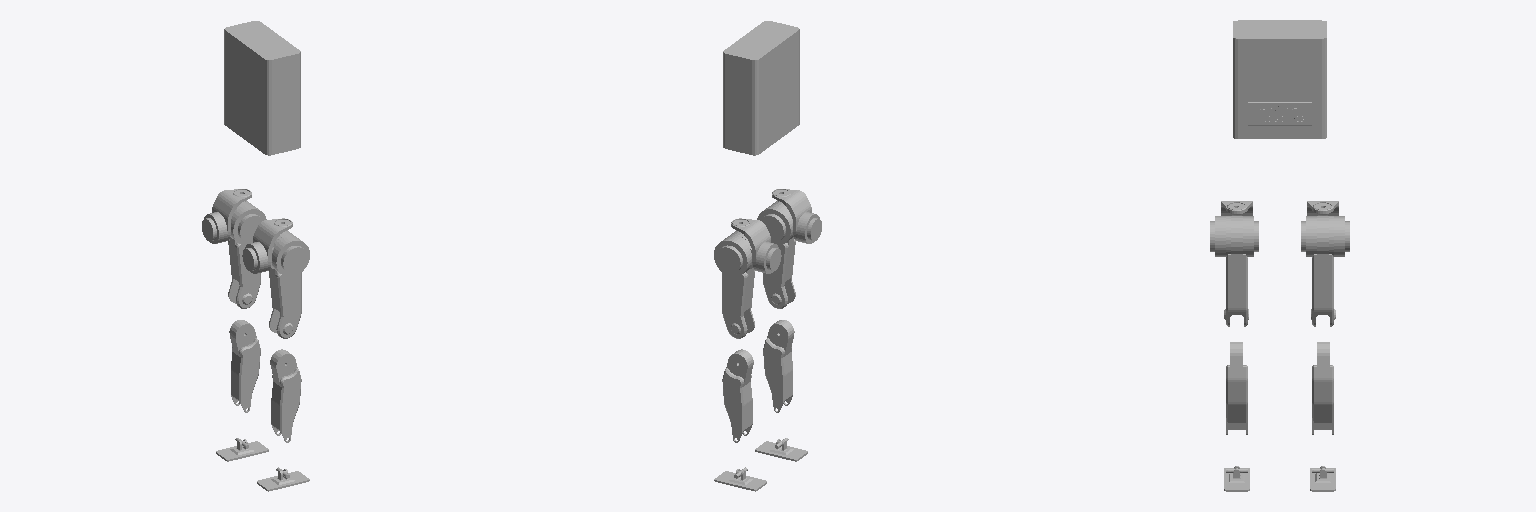
--- What the picture shows (computed from the rendered views, not written in the file) ---
Views: 3 orthographic renders of the robot side by side, from view 1: azimuth 30°, elevation 25°; view 2: azimuth 150°, elevation 25°; view 3: azimuth 270°, elevation 25°.
Robot: bot_elf — 32 links, 31 joints (20 revolute, 11 fixed); root link base_link; default pose: all joints at 0.
Links seen in each view (by area): view 1: base_link, l_hip_y_link, r_knee_y_link, l_knee_y_link, r_hip_y_link, r_hip_z_link, l_hip_z_link, r_hip_x_link, l_ankle_x_link, r_ankle_x_link; view 2: base_link, r_hip_y_link, l_knee_y_link, r_knee_y_link, l_hip_y_link, l_hip_z_link, r_hip_z_link, l_hip_x_link, r_ankle_x_link, l_ankle_x_link; view 3: base_link, l_hip_y_link, r_hip_y_link, l_knee_y_link, r_knee_y_link, l_hip_x_link, r_hip_x_link, r_ankle_x_link, l_ankle_x_link.
Boxes of the visible links, left/top/right/bottom form: base_link: left=224, top=21, right=300, bottom=155; l_hip_y_link: left=228, top=201, right=266, bottom=308; r_knee_y_link: left=270, top=349, right=301, bottom=442; l_knee_y_link: left=229, top=320, right=260, bottom=412; r_hip_y_link: left=269, top=230, right=301, bottom=338; r_hip_z_link: left=242, top=218, right=292, bottom=273; l_hip_z_link: left=202, top=189, right=251, bottom=243; r_hip_x_link: left=271, top=235, right=309, bottom=276; l_ankle_x_link: left=216, top=439, right=268, bottom=461; r_ankle_x_link: left=257, top=469, right=309, bottom=491; base_link: left=723, top=21, right=799, bottom=155; r_hip_y_link: left=757, top=201, right=795, bottom=308; l_knee_y_link: left=722, top=349, right=753, bottom=442; r_knee_y_link: left=763, top=320, right=794, bottom=412; l_hip_y_link: left=722, top=230, right=754, bottom=338; l_hip_z_link: left=731, top=218, right=781, bottom=273; r_hip_z_link: left=772, top=189, right=821, bottom=243; l_hip_x_link: left=714, top=235, right=752, bottom=276; r_ankle_x_link: left=755, top=439, right=807, bottom=461; l_ankle_x_link: left=714, top=469, right=766, bottom=491; base_link: left=1233, top=20, right=1326, bottom=138; l_hip_y_link: left=1301, top=216, right=1335, bottom=326; r_hip_y_link: left=1224, top=216, right=1258, bottom=326; l_knee_y_link: left=1312, top=342, right=1333, bottom=434; r_knee_y_link: left=1226, top=342, right=1247, bottom=434; l_hip_x_link: left=1329, top=216, right=1349, bottom=256; r_hip_x_link: left=1210, top=216, right=1230, bottom=256; r_ankle_x_link: left=1224, top=466, right=1249, bottom=491; l_ankle_x_link: left=1310, top=466, right=1335, bottom=491.
Bounding box of the posed robot: 0.1586 × 0.3262 × 1.16 m (x, y, z).
Meshes: 21 distinct files referenced, 13 mesh visuals loaded (13 binary STL); not drawn: 8 (reference not matched to a file when rendering).

The robot description file, URDF, robot "bot_elf":
<?xml version="1.0" encoding="utf-8"?>
<robot
  name="bot_elf">
  <link
    name="base_link">
    <inertial>
      <origin
        xyz="0.0047796 0.0024086 -0.0080626"
        rpy="0 0 0" />
      <mass
        value="8.1797" />
      <inertia
        ixx="0.048088"
        ixy="1.5174E-07"
        ixz="1.072E-05"
        iyy="0.025715"
        iyz="-1.8442E-06"
        izz="0.034109" />
    </inertial>
    <visual>
      <origin
        xyz="0 0 0"
        rpy="0 0 0" />
      <geometry>
        <mesh
          filename="package://description/model/urdf/bot_elf/meshes/base_link.STL" />
      </geometry>
      <material
        name="">
        <color
          rgba="0.75294 0.75294 0.75294 1" />
      </material>
    </visual>
    <collision>
      <origin
        xyz="0 0 0"
        rpy="0 0 0" />
      <geometry>
        <mesh
          filename="package://description/model/urdf/bot_elf/meshes/base_link.STL" />
      </geometry>
    </collision>
  </link>
  <link
    name="l_hip_z_link">
    <inertial>
      <origin
        xyz="-0.0926596088186881 1.83143900212845E-05 0.013335848664072"
        rpy="0 0 0" />
      <mass
        value="1.23681233828303" />
      <inertia
        ixx="0.00190369835860619"
        ixy="5.51860109314912E-07"
        ixz="-0.000295974194800576"
        iyy="0.00158455365942534"
        iyz="2.68654743796429E-06"
        izz="0.00116909292803411" />
    </inertial>
    <visual>
      <origin
        xyz="0 0 0"
        rpy="0 0 0" />
      <geometry>
        <mesh
          filename="package://description/model/urdf/bot_elf/meshes/l_hip_z_link.STL" />
      </geometry>
      <material
        name="">
        <color
          rgba="0.752941176470588 0.752941176470588 0.752941176470588 1" />
      </material>
    </visual>
    <collision>
      <origin
        xyz="0 0 0"
        rpy="0 0 0" />
      <geometry>
        <mesh
          filename="package://description/model/urdf/bot_elf/meshes/l_hip_z_link.STL" />
      </geometry>
    </collision>
  </link>
  <joint
    name="l_hip_z_joint"
    type="revolute">
    <origin
      xyz="0 0.1 -0.2929"
      rpy="0 0 0" />
    <parent
      link="base_link" />
    <child
      link="l_hip_z_link" />
    <axis
      xyz="0 0 1" />
    <limit
      lower="-0.785"
      upper="0.785"
      effort="20"
      velocity="20" />
  </joint>
  <link
    name="l_hip_x_link">
    <inertial>
      <origin
        xyz="-0.00338370329540797 -0.0467745110690707 5.150285588576E-06"
        rpy="0 0 0" />
      <mass
        value="1.52690683733997" />
      <inertia
        ixx="0.00145004913823758"
        ixy="4.10352624430737E-05"
        ixz="4.97801733338824E-08"
        iyy="0.00233457718239287"
        iyz="-1.50048456747228E-08"
        izz="0.00157352349598003" />
    </inertial>
    <visual>
      <origin
        xyz="0 0 0"
        rpy="0 0 0" />
      <geometry>
        <mesh
          filename="package://description/model/urdf/bot_elf/meshes/l_hip_x_link.STL" />
      </geometry>
      <material
        name="">
        <color
          rgba="0.752941176470588 0.752941176470588 0.752941176470588 1" />
      </material>
    </visual>
    <collision>
      <origin
        xyz="0 0 0"
        rpy="0 0 0" />
      <geometry>
        <mesh
          filename="package://description/model/urdf/bot_elf/meshes/l_hip_x_link.STL" />
      </geometry>
    </collision>
  </link>
  <joint
    name="l_hip_x_joint"
    type="revolute">
    <origin
      xyz="0 0 0"
      rpy="0 0 0" />
    <parent
      link="l_hip_z_link" />
    <child
      link="l_hip_x_link" />
    <axis
      xyz="1 0 0" />
    <limit
      lower="-0.523"
      upper="0.785"
      effort="40"
      velocity="20" />
  </joint>
  <link
    name="l_hip_y_link">
    <inertial>
      <origin
        xyz="0.00255762409650847 0.0236405387147591 -0.048808744713007"
        rpy="0 0 0" />
      <mass
        value="2.50086507860377" />
      <inertia
        ixx="0.0110437074735068"
        ixy="1.73008147567407E-06"
        ixz="0.000227328231594566"
        iyy="0.0125914973055777"
        iyz="-2.64879858826109E-05"
        izz="0.0023184281360165" />
    </inertial>
    <visual>
      <origin
        xyz="0 0 0"
        rpy="0 0 0" />
      <geometry>
        <mesh
          filename="package://description/model/urdf/bot_elf/meshes/l_hip_y_link.STL" />
      </geometry>
      <material
        name="">
        <color
          rgba="0.752941176470588 0.752941176470588 0.752941176470588 1" />
      </material>
    </visual>
    <collision>
      <origin
        xyz="0 0 0"
        rpy="0 0 0" />
      <geometry>
        <mesh
          filename="package://description/model/urdf/bot_elf/meshes/l_hip_y_link.STL" />
      </geometry>
    </collision>
  </link>
  <joint
    name="l_hip_y_joint"
    type="revolute">
    <origin
      xyz="0 0 0"
      rpy="0 0 0" />
    <parent
      link="l_hip_x_link" />
    <child
      link="l_hip_y_link" />
    <axis
      xyz="0 1 0" />
    <limit
      lower="-2"
      upper="0.5"
      effort="150"
      velocity="20" />
  </joint>
  <link
    name="l_knee_y_link">
    <inertial>
      <origin
        xyz="0.00615799985005955 0.000579611337631 -0.110706777787508"
        rpy="0 0 0" />
      <mass
        value="1.42611317447382" />
      <inertia
        ixx="0.00265261046145861"
        ixy="3.62716577648164E-06"
        ixz="-0.00014997989154327"
        iyy="0.00293783143268895"
        iyz="1.89587363258298E-05"
        izz="0.000614654317255875" />
    </inertial>
    <visual>
      <origin
        xyz="0 0 0"
        rpy="0 0 0" />
      <geometry>
        <mesh
          filename="package://description/model/urdf/bot_elf/meshes/l_knee_y_link.STL" />
      </geometry>
      <material
        name="">
        <color
          rgba="0.752941176470588 0.752941176470588 0.752941176470588 1" />
      </material>
    </visual>
    <collision>
      <origin
        xyz="0 0 0"
        rpy="0 0 0" />
      <geometry>
        <mesh
          filename="package://description/model/urdf/bot_elf/meshes/l_knee_y_link.STL" />
      </geometry>
    </collision>
  </link>
  <joint
    name="l_knee_y_joint"
    type="revolute">
    <origin
      xyz="0 0 -0.3"
      rpy="0 0 0" />
    <parent
      link="l_hip_y_link" />
    <child
      link="l_knee_y_link" />
    <axis
      xyz="0 1 0" />
    <limit
      lower="0"
      upper="2.2"
      effort="150"
      velocity="20" />
  </joint>
  <link
    name="l_ankle_y_link">
    <inertial>
      <origin
        xyz="-6.09814513086586E-12 5.83219791905343E-10 3.64153152077051E-14"
        rpy="0 0 0" />
      <mass
        value="0.0230716180694964" />
      <inertia
        ixx="2.87473990078246E-06"
        ixy="-5.92541251517592E-17"
        ixz="-6.2876746116499E-18"
        iyy="5.59461108357194E-07"
        iyz="5.67081566973957E-19"
        izz="2.6957694272781E-06" />
    </inertial>
    <visual>
      <origin
        xyz="0 0 0"
        rpy="0 0 0" />
      <geometry>
        <mesh
          filename="package://description/model/urdf/bot_elf/meshes/l_ankle_y_link.STL" />
      </geometry>
      <material
        name="">
        <color
          rgba="0.752941176470588 0.752941176470588 0.752941176470588 1" />
      </material>
    </visual>
    <collision>
      <origin
        xyz="0 0 0"
        rpy="0 0 0" />
      <geometry>
        <mesh
          filename="package://description/model/urdf/bot_elf/meshes/l_ankle_y_link.STL" />
      </geometry>
    </collision>
  </link>
  <joint
    name="l_ankle_y_joint"
    type="revolute">
    <origin
      xyz="0 0 -0.3"
      rpy="0 0 0" />
    <parent
      link="l_knee_y_link" />
    <child
      link="l_ankle_y_link" />
    <axis
      xyz="0 1 0" />
    <limit
      lower="-1.134"
      upper="0.872"
      effort="14"
      velocity="20" />
  </joint>
  <link
    name="l_ankle_x_link">
    <inertial>
      <origin
        xyz="-0.000451547351572134 1.90180791947991E-09 -0.0239480271401858"
        rpy="0 0 0" />
      <mass
        value="0.242076229237956" />
      <inertia
        ixx="0.000133478606835497"
        ixy="-1.35534858432808E-12"
        ixz="-4.72078298245015E-08"
        iyy="0.000565974636810553"
        iyz="-3.48826857670192E-12"
        izz="0.000693006055828246" />
    </inertial>
    <visual>
      <origin
        xyz="0 0 0"
        rpy="0 0 0" />
      <geometry>
        <mesh
          filename="package://description/model/urdf/bot_elf/meshes/l_ankle_x_link.STL" />
      </geometry>
      <material
        name="">
        <color
          rgba="0.752941176470588 0.752941176470588 0.752941176470588 1" />
      </material>
    </visual>
    <collision>
      <origin
        xyz="0 0 0"
        rpy="0 0 0" />
      <geometry>
        <mesh
          filename="package://description/model/urdf/bot_elf/meshes/l_ankle_x_link.STL" />
      </geometry>
    </collision>
  </link>
  <joint
    name="l_ankle_x_joint"
    type="revolute">
    <origin
      xyz="0 0 0"
      rpy="0 0 0" />
    <parent
      link="l_ankle_y_link" />
    <child
      link="l_ankle_x_link" />
    <axis
      xyz="1 0 0" />
    <limit
      lower="-0.349"
      upper="0.349"
      effort="14"
      velocity="20" />
  </joint>
  <link
    name="r_hip_z_link">
    <inertial>
      <origin
        xyz="-0.0926596100628432 -1.83149507901742E-05 0.0133358473859379"
        rpy="0 0 0" />
      <mass
        value="1.23681232467206" />
      <inertia
        ixx="0.00190369819431391"
        ixy="-5.51893727727547E-07"
        ixz="-0.000295974083738072"
        iyy="0.00158455355805139"
        iyz="-2.68652577448903E-06"
        izz="0.00116909298056176" />
    </inertial>
    <visual>
      <origin
        xyz="0 0 0"
        rpy="0 0 0" />
      <geometry>
        <mesh
          filename="package://description/model/urdf/bot_elf/meshes/r_hip_z_link.STL" />
      </geometry>
      <material
        name="">
        <color
          rgba="0.752941176470588 0.752941176470588 0.752941176470588 1" />
      </material>
    </visual>
    <collision>
      <origin
        xyz="0 0 0"
        rpy="0 0 0" />
      <geometry>
        <mesh
          filename="package://description/model/urdf/bot_elf/meshes/r_hip_z_link.STL" />
      </geometry>
    </collision>
  </link>
  <joint
    name="r_hip_z_joint"
    type="revolute">
    <origin
      xyz="0 -0.1 -0.2929"
      rpy="0 0 0" />
    <parent
      link="base_link" />
    <child
      link="r_hip_z_link" />
    <axis
      xyz="0 0 1" />
    <limit
      lower="-0.785"
      upper="0.785"
      effort="20"
      velocity="20" />
  </joint>
  <link
    name="r_hip_x_link">
    <inertial>
      <origin
        xyz="-0.00338370329319122 0.0467745110719649 -5.15028594272327E-06"
        rpy="0 0 0" />
      <mass
        value="1.52690683726889" />
      <inertia
        ixx="0.00145004913816721"
        ixy="-4.1035262366074E-05"
        ixz="-4.97801918977252E-08"
        iyy="0.00233457718230779"
        iyz="-1.50048535538651E-08"
        izz="0.00157352349584134" />
    </inertial>
    <visual>
      <origin
        xyz="0 0 0"
        rpy="0 0 0" />
      <geometry>
        <mesh
          filename="package://description/model/urdf/bot_elf/meshes/r_hip_x_link.STL" />
      </geometry>
      <material
        name="">
        <color
          rgba="0.752941176470588 0.752941176470588 0.752941176470588 1" />
      </material>
    </visual>
    <collision>
      <origin
        xyz="0 0 0"
        rpy="0 0 0" />
      <geometry>
        <mesh
          filename="package://description/model/urdf/bot_elf/meshes/r_hip_x_link.STL" />
      </geometry>
    </collision>
  </link>
  <joint
    name="r_hip_x_joint"
    type="revolute">
    <origin
      xyz="0 0 0"
      rpy="0 0 0" />
    <parent
      link="r_hip_z_link" />
    <child
      link="r_hip_x_link" />
    <axis
      xyz="1 0 0" />
    <limit
      lower="-0.785"
      upper="0.523"
      effort="40"
      velocity="20" />
  </joint>
  <link
    name="r_hip_y_link">
    <inertial>
      <origin
        xyz="0.00255763066098993 -0.0236405391952909 -0.0488087769927071"
        rpy="0 0 0" />
      <mass
        value="2.50086518492187" />
      <inertia
        ixx="0.0110437209512944"
        ixy="-1.72998158531581E-06"
        ixz="0.000227332007725612"
        iyy="0.012591510850742"
        iyz="2.64884628868717E-05"
        izz="0.00231842880087343" />
    </inertial>
    <visual>
      <origin
        xyz="0 0 0"
        rpy="0 0 0" />
      <geometry>
        <mesh
          filename="package://description/model/urdf/bot_elf/meshes/r_hip_y_link.STL" />
      </geometry>
      <material
        name="">
        <color
          rgba="0.752941176470588 0.752941176470588 0.752941176470588 1" />
      </material>
    </visual>
    <collision>
      <origin
        xyz="0 0 0"
        rpy="0 0 0" />
      <geometry>
        <mesh
          filename="package://description/model/urdf/bot_elf/meshes/r_hip_y_link.STL" />
      </geometry>
    </collision>
  </link>
  <joint
    name="r_hip_y_joint"
    type="revolute">
    <origin
      xyz="0 0 0"
      rpy="0 0 0" />
    <parent
      link="r_hip_x_link" />
    <child
      link="r_hip_y_link" />
    <axis
      xyz="0 1 0" />
    <limit
      lower="-2"
      upper="0.5"
      effort="150"
      velocity="20" />
  </joint>
  <link
    name="r_knee_y_link">
    <inertial>
      <origin
        xyz="0.00617132335541426 -0.000560807743664765 -0.11065165092477"
        rpy="0 0 0" />
      <mass
        value="1.42506790131187" />
      <inertia
        ixx="0.00264676043875699"
        ixy="-3.64420143143032E-06"
        ixz="-0.000149674709580511"
        iyy="0.00293197556843643"
        iyz="-1.92776513579778E-05"
        izz="0.000614607093781911" />
    </inertial>
    <visual>
      <origin
        xyz="0 0 0"
        rpy="0 0 0" />
      <geometry>
        <mesh
          filename="package://description/model/urdf/bot_elf/meshes/r_knee_y_link.STL" />
      </geometry>
      <material
        name="">
        <color
          rgba="0.752941176470588 0.752941176470588 0.752941176470588 1" />
      </material>
    </visual>
    <collision>
      <origin
        xyz="0 0 0"
        rpy="0 0 0" />
      <geometry>
        <mesh
          filename="package://description/model/urdf/bot_elf/meshes/r_knee_y_link.STL" />
      </geometry>
    </collision>
  </link>
  <joint
    name="r_knee_y_joint"
    type="revolute">
    <origin
      xyz="0 0 -0.3"
      rpy="0 0 0" />
    <parent
      link="r_hip_y_link" />
    <child
      link="r_knee_y_link" />
    <axis
      xyz="0 1 0" />
    <limit
      lower="0"
      upper="2.2"
      effort="150"
      velocity="20" />
  </joint>
  <link
    name="r_ankle_y_link">
    <inertial>
      <origin
        xyz="-1.21872957033124E-11 -5.83219417205072E-10 5.00266494896096E-13"
        rpy="0 0 0" />
      <mass
        value="0.0230716180694967" />
      <inertia
        ixx="2.8747399010197E-06"
        ixy="-6.04370024399216E-17"
        ixz="-8.30234156722694E-18"
        iyy="5.59461108474785E-07"
        iyz="-1.29308673475988E-18"
        izz="2.69576942739776E-06" />
    </inertial>
    <visual>
      <origin
        xyz="0 0 0"
        rpy="0 0 0" />
      <geometry>
        <mesh
          filename="package://description/model/urdf/bot_elf/meshes/r_ankle_y_link.STL" />
      </geometry>
      <material
        name="">
        <color
          rgba="0.752941176470588 0.752941176470588 0.752941176470588 1" />
      </material>
    </visual>
    <collision>
      <origin
        xyz="0 0 0"
        rpy="0 0 0" />
      <geometry>
        <mesh
          filename="package://description/model/urdf/bot_elf/meshes/r_ankle_y_link.STL" />
      </geometry>
    </collision>
  </link>
  <joint
    name="r_ankle_y_joint"
    type="revolute">
    <origin
      xyz="0 0 -0.3"
      rpy="0 0 0" />
    <parent
      link="r_knee_y_link" />
    <child
      link="r_ankle_y_link" />
    <axis
      xyz="0 1 0" />
    <limit
      lower="-1.134"
      upper="0.872"
      effort="14"
      velocity="20" />
  </joint>
  <link
    name="r_ankle_x_link">
    <inertial>
      <origin
        xyz="-0.000451549280729961 -1.79609392636504E-09 -0.0239480246768528"
        rpy="0 0 0" />
      <mass
        value="0.24207626222516" />
      <inertia
        ixx="0.000133478605085963"
        ixy="1.32257502304071E-12"
        ixz="-4.72071011237789E-08"
        iyy="0.000565974633400782"
        iyz="3.25954307181434E-12"
        izz="0.000693006056524855" />
    </inertial>
    <visual>
      <origin
        xyz="0 0 0"
        rpy="0 0 0" />
      <geometry>
        <mesh
          filename="package://description/model/urdf/bot_elf/meshes/r_ankle_x_link.STL" />
      </geometry>
      <material
        name="">
        <color
          rgba="0.752941176470588 0.752941176470588 0.752941176470588 1" />
      </material>
    </visual>
    <collision>
      <origin
        xyz="0 0 0"
        rpy="0 0 0" />
      <geometry>
        <mesh
          filename="package://description/model/urdf/bot_elf/meshes/r_ankle_x_link.STL" />
      </geometry>
    </collision>
  </link>
  <joint
    name="r_ankle_x_joint"
    type="revolute">
    <origin
      xyz="0 0 0"
      rpy="0 0 0" />
    <parent
      link="r_ankle_y_link" />
    <child
      link="r_ankle_x_link" />
    <axis
      xyz="1 0 0" />
    <limit
      lower="-0.349"
      upper="0.349"
      effort="14"
      velocity="20" />
  </joint>
  <link
    name="l_shld_y_link">
    <inertial>
      <origin
        xyz="-0.000602020278894832 -0.00203253807550383 5.25078036642812E-05"
        rpy="0 0 0" />
      <mass
        value="0.397430898254414" />
      <inertia
        ixx="0.000197533082877176"
        ixy="-2.13914774743445E-06"
        ixz="4.75269653041195E-07"
        iyy="0.000172304821546368"
        iyz="1.06293202473427E-06"
        izz="0.000193880730475137" />
    </inertial>
    <visual>
      <origin
        xyz="0 0 0"
        rpy="0 0 0" />
      <geometry>
        <mesh
          filename="package://description/model/urdf/bot_elf/meshes/l_shld_y_link.STL" />
      </geometry>
      <material
        name="">
        <color
          rgba="0.752941176470588 0.752941176470588 0.752941176470588 1" />
      </material>
    </visual>
    <collision>
      <origin
        xyz="0 0 0"
        rpy="0 0 0" />
      <geometry>
        <mesh
          filename="package://description/model/urdf/bot_elf/meshes/l_shld_y_link.STL" />
      </geometry>
    </collision>
  </link>
  <joint
    name="l_shld_y_joint"
    type="revolute">
    <origin
      xyz="0 0.213 0.1521"
      rpy="0 0 0" />
    <parent
      link="base_link" />
    <child
      link="l_shld_y_link" />
    <axis
      xyz="0 1 0" />
    <limit
      lower="-2"
      upper="2"
      effort="27"
      velocity="20" />
  </joint>
  <link
    name="l_shld_x_link">
    <inertial>
      <origin
        xyz="3.49942010425215E-05 5.81165736925626E-05 -0.068328160023371"
        rpy="0 0 0" />
      <mass
        value="0.621968051279973" />
      <inertia
        ixx="0.000522407314474642"
        ixy="1.0633092850603E-06"
        ixz="4.82966301174553E-06"
        iyy="0.000684523465472649"
        iyz="-8.21814917464773E-07"
        izz="0.000533096664005443" />
    </inertial>
    <visual>
      <origin
        xyz="0 0 0"
        rpy="0 0 0" />
      <geometry>
        <mesh
          filename="package://description/model/urdf/bot_elf/meshes/l_shld_x_link.STL" />
      </geometry>
      <material
        name="">
        <color
          rgba="0.752941176470588 0.752941176470588 0.752941176470588 1" />
      </material>
    </visual>
    <collision>
      <origin
        xyz="0 0 0"
        rpy="0 0 0" />
      <geometry>
        <mesh
          filename="package://description/model/urdf/bot_elf/meshes/l_shld_x_link.STL" />
      </geometry>
    </collision>
  </link>
  <joint
    name="l_shld_x_joint"
    type="revolute">
    <origin
      xyz="0 0 0"
      rpy="0 0 0" />
    <parent
      link="l_shld_y_link" />
    <child
      link="l_shld_x_link" />
    <axis
      xyz="1 0 0" />
    <limit
      lower="-2"
      upper="2"
      effort="27"
      velocity="20" />
  </joint>
  <link
    name="l_shld_z_link">
    <inertial>
      <origin
        xyz="8.04921908110876E-05 -0.000424509130888678 -0.230838826500421"
        rpy="0 0 0" />
      <mass
        value="0.449112448185888" />
      <inertia
        ixx="0.000250701927485454"
        ixy="8.21779092863005E-07"
        ixz="-1.0631472773896E-06"
        iyy="0.000253940290337809"
        iyz="4.73387697997262E-07"
        izz="0.000224460005915657" />
    </inertial>
    <visual>
      <origin
        xyz="0 0 0"
        rpy="0 0 0" />
      <geometry>
        <mesh
          filename="package://description/model/urdf/bot_elf/meshes/l_shld_z_link.STL" />
      </geometry>
      <material
        name="">
        <color
          rgba="0.752941176470588 0.752941176470588 0.752941176470588 1" />
      </material>
    </visual>
    <collision>
      <origin
        xyz="0 0 0"
        rpy="0 0 0" />
      <geometry>
        <mesh
          filename="package://description/model/urdf/bot_elf/meshes/l_shld_z_link.STL" />
      </geometry>
    </collision>
  </link>
  <joint
    name="l_shld_z_joint"
    type="revolute">
    <origin
      xyz="0 0 0"
      rpy="0 0 0" />
    <parent
      link="l_shld_x_link" />
    <child
      link="l_shld_z_link" />
    <axis
      xyz="0 0 1" />
    <limit
      lower="-2"
      upper="2"
      effort="7"
      velocity="20" />
  </joint>
  <link
    name="l_elb_y_link">
    <inertial>
      <origin
        xyz="1.52840600574913E-09 0.00061623853967685 -0.108440061437075"
        rpy="0 0 0" />
      <mass
        value="0.164832849485564" />
      <inertia
        ixx="0.000272523867356837"
        ixy="-3.68958961037701E-12"
        ixz="-4.08453819018909E-13"
        iyy="0.000246652324618476"
        iyz="5.6498846108711E-07"
        izz="0.000111491920128197" />
    </inertial>
    <visual>
      <origin
        xyz="0 0 0"
        rpy="0 0 0" />
      <geometry>
        <mesh
          filename="package://description/model/urdf/bot_elf/meshes/l_elb_y_link.STL" />
      </geometry>
      <material
        name="">
        <color
          rgba="0.752941176470588 0.752941176470588 0.752941176470588 1" />
      </material>
    </visual>
    <collision>
      <origin
        xyz="0 0 0"
        rpy="0 0 0" />
      <geometry>
        <mesh
          filename="package://description/model/urdf/bot_elf/meshes/l_elb_y_link.STL" />
      </geometry>
    </collision>
  </link>
  <joint
    name="l_elb_y_joint"
    type="revolute">
    <origin
      xyz="0 0 -0.24505"
      rpy="0 0 0" />
    <parent
      link="l_shld_z_link" />
    <child
      link="l_elb_y_link" />
    <axis
      xyz="0 1 0" />
    <limit
      lower="-2"
      upper="2"
      effort="27"
      velocity="20" />
  </joint>
  <link
    name="r_shld_y_link">
    <inertial>
      <origin
        xyz="-0.000602020278894832 0.00203253807550383 5.25078036642812E-05"
        rpy="0 0 0" />
      <mass
        value="0.397430898254414" />
        <inertia
        ixx="0.000197533082877176"
        ixy="2.13914774743445E-06"
        ixz="-4.75269653041195E-07"
        iyy="0.000172304821546368"
        iyz="1.06293202473427E-06"
        izz="0.000193880730475137" />
    </inertial>
    <visual>
      <origin
        xyz="0 0 0"
        rpy="0 0 0" />
      <geometry>
        <mesh
          filename="package://description/model/urdf/bot_elf/meshes/r_shld_y_link.STL" />
      </geometry>
      <material
        name="">
        <color
          rgba="1 1 1 1" />
      </material>
    </visual>
    <collision>
      <origin
        xyz="0 0 0"
        rpy="0 0 0" />
      <geometry>
        <mesh
          filename="package://description/model/urdf/bot_elf/meshes/r_shld_y_link.STL" />
      </geometry>
    </collision>
  </link>
  <joint
    name="r_shld_y_joint"
    type="revolute">
    <origin
      xyz="0 -0.213 0.1521"
      rpy="0 0 0" />
    <parent
      link="base_link" />
    <child
      link="r_shld_y_link" />
    <axis
      xyz="0 1 0" />
    <limit
      lower="-2"
      upper="2"
      effort="27"
      velocity="20" />
  </joint>
  <link
    name="r_shld_x_link">
    <inertial>
      <origin
        xyz="3.49942010425205E-05 -5.81165736925071E-05 -0.0683281600233711"
        rpy="0 0 0" />
      <mass
        value="0.621968051279973" />
      <inertia
        ixx="0.000522407314474642"
        ixy="-1.06330928506036E-06"
        ixz="4.82966301174548E-06"
        iyy="0.000684523465472649"
        iyz="8.21814917464805E-07"
        izz="0.000533096664005443" />
    </inertial>
    <visual>
      <origin
        xyz="0 0 0"
        rpy="0 0 0" />
      <geometry>
        <mesh
          filename="package://description/model/urdf/bot_elf/meshes/r_shld_x_link.STL" />
      </geometry>
      <material
        name="">
        <color
          rgba="0.752941176470588 0.752941176470588 0.752941176470588 1" />
      </material>
    </visual>
    <collision>
      <origin
        xyz="0 0 0"
        rpy="0 0 0" />
      <geometry>
        <mesh
          filename="package://description/model/urdf/bot_elf/meshes/r_shld_x_link.STL" />
      </geometry>
    </collision>
  </link>
  <joint
    name="r_shld_x_joint"
    type="revolute">
    <origin
      xyz="0 0 0"
      rpy="0 0 0" />
    <parent
      link="r_shld_y_link" />
    <child
      link="r_shld_x_link" />
    <axis
      xyz="1 0 0" />
    <limit
      lower="-2"
      upper="2"
      effort="27"
      velocity="20" />
  </joint>
  <link
    name="r_shld_z_link">
    <inertial>
      <origin
        xyz="8.0589558253347E-05 0.000424513070547111 -0.230838913045408"
        rpy="0 0 0" />
      <mass
        value="0.449113232804568" />
      <inertia
        ixx="0.000250699864950972"
        ixy="-8.21992379855939E-07"
        ixz="-1.06334410611211E-06"
        iyy="0.000253940771428312"
        iyz="-4.73304934008079E-07"
        izz="0.000224461304023008" />
    </inertial>
    <visual>
      <origin
        xyz="0 0 0"
        rpy="0 0 0" />
      <geometry>
        <mesh
          filename="package://description/model/urdf/bot_elf/meshes/r_shld_z_link.STL" />
      </geometry>
      <material
        name="">
        <color
          rgba="0.752941176470588 0.752941176470588 0.752941176470588 1" />
      </material>
    </visual>
    <collision>
      <origin
        xyz="0 0 0"
        rpy="0 0 0" />
      <geometry>
        <mesh
          filename="package://description/model/urdf/bot_elf/meshes/r_shld_z_link.STL" />
      </geometry>
    </collision>
  </link>
  <joint
    name="r_shld_z_joint"
    type="revolute">
    <origin
      xyz="0 0 0"
      rpy="0 0 0" />
    <parent
      link="r_shld_x_link" />
    <child
      link="r_shld_z_link" />
    <axis
      xyz="0 0 1" />
    <limit
      lower="-2"
      upper="2"
      effort="7"
      velocity="20" />
  </joint>
  <link
    name="r_elb_y_link">
    <inertial>
      <origin
        xyz="-1.52840602714641E-09 -0.000616238539676822 -0.108440061437075"
        rpy="0 0 0" />
      <mass
        value="0.164832849485564" />
      <inertia
        ixx="0.000272523867356837"
        ixy="-3.68958975120286E-12"
        ixz="4.08453745704318E-13"
        iyy="0.000246652324618476"
        iyz="-5.64988461087134E-07"
        izz="0.000111491920128197" />
    </inertial>
    <visual>
      <origin
        xyz="0 0 0"
        rpy="0 0 0" />
      <geometry>
        <mesh
          filename="package://description/model/urdf/bot_elf/meshes/r_elb_y_link.STL" />
      </geometry>
      <material
        name="">
        <color
          rgba="0.752941176470588 0.752941176470588 0.752941176470588 1" />
      </material>
    </visual>
    <collision>
      <origin
        xyz="0 0 0"
        rpy="0 0 0" />
      <geometry>
        <mesh
          filename="package://description/model/urdf/bot_elf/meshes/r_elb_y_link.STL" />
      </geometry>
    </collision>
  </link>
  <joint
    name="r_elb_y_joint"
    type="revolute">
    <origin
      xyz="0 0 -0.24505"
      rpy="0 0 0" />
    <parent
      link="r_shld_z_link" />
    <child
      link="r_elb_y_link" />
    <axis
      xyz="0 1 0" />
    <limit
      lower="-2"
      upper="2"
      effort="27"
      velocity="20" />
  </joint>

  <link name="contact1"/>
  <link name="contact2"/>
  <link name="contact3"/>
  <link name="contact4" />
  <link name="contact5"/>
  <link name="contact6"/>
  <link name="contact7"/>
  <link name="contact8"/>

  <link name="imu_link"/>

  <link name="l_hand_contact"/>
  <link name="r_hand_contact"/>

  <!-- hand -->
  <joint name="l_hand_joint" type="fixed">
    <origin rpy="0 0 0" xyz="0 0 -0.235"/>
    <parent link="l_elb_y_link"/>
    <child link="l_hand_contact"/>
  </joint>
  <joint name="r_hand_joint" type="fixed">
    <origin rpy="0 0 0" xyz="0 0 -0.235"/>
    <parent link="r_elb_y_link"/>
    <child link="r_hand_contact"/>
  </joint>


  <joint name="contact1_joint" type="fixed">
    <origin rpy="0 0 0" xyz="0.09 0.043 -0.029"/>
    <parent link="l_ankle_x_link"/>
    <child link="contact1"/>
  </joint>
  <joint name="contact2_joint" type="fixed">
    <origin rpy="0 0 0" xyz="0.09 -0.043 -0.029"/>
    <parent link="l_ankle_x_link"/>
    <child link="contact2"/>
  </joint>
  <joint name="contact3_joint" type="fixed">
    <origin rpy="0 0 0" xyz="-0.09 0.043 -0.029"/>
    <parent link="l_ankle_x_link"/>
    <child link="contact3"/>
  </joint>
  <joint name="contact4_joint" type="fixed">
    <origin rpy="0 0 0" xyz="-0.09 -0.043 -0.029"/>
    <parent link="l_ankle_x_link"/>
    <child link="contact4"/>
  </joint>
  <joint name="contact5_joint" type="fixed">
    <origin rpy="0 0 0" xyz="0.09 0.043 -0.029"/>
    <parent link="r_ankle_x_link"/>
    <child link="contact5"/>
  </joint>
  <joint name="contact6_joint" type="fixed">
    <origin rpy="0 0 0" xyz="0.09 -0.043 -0.029"/>
    <parent link="r_ankle_x_link"/>
    <child link="contact6"/>
  </joint>
  <joint name="contact7_joint" type="fixed">
    <origin rpy="0 0 0" xyz="-0.09 0.043 -0.029"/>
    <parent link="r_ankle_x_link"/>
    <child link="contact7"/>
  </joint>
  <joint name="contact8_joint" type="fixed">
    <origin rpy="0 0 0" xyz="-0.09 -0.043 -0.029"/>
    <parent link="r_ankle_x_link"/>
    <child link="contact8"/>
  </joint>
  <joint name="imu_joint" type="fixed">
    <origin rpy="0 0 0" xyz="0 0 0"/>
    <parent link="base_link"/>
    <child link="imu_link"/>
  </joint>

</robot>
